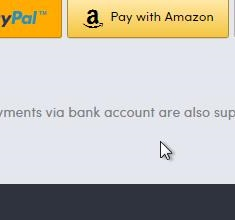cursor: (158, 139, 173, 161)
